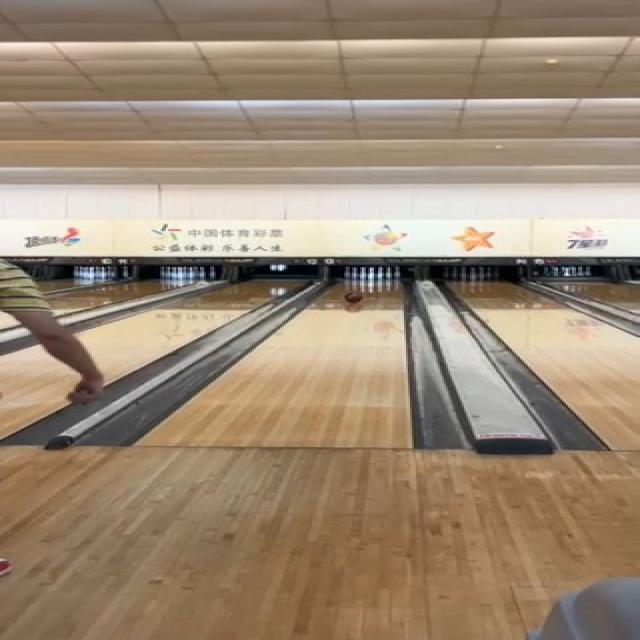alley: (140, 282, 413, 447)
balls: (344, 291, 364, 304)
bottle: (345, 266, 402, 280)
